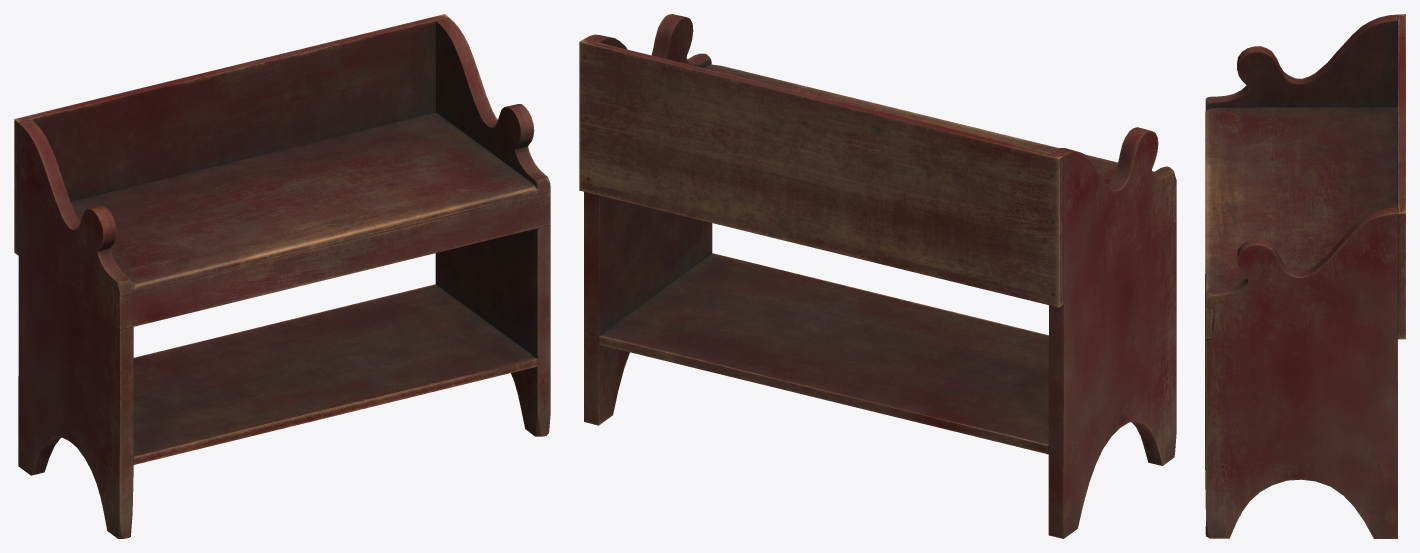
The model's file is painted_wooden_bench.glb.
3 renders of one model, left to right at view 1: azimuth 30°, elevation 25°; view 2: azimuth 150°, elevation 25°; view 3: azimuth 270°, elevation 25°, orthographic. The views are drawn at different scales.
Parts seen in each view (by area): view 1: painted_wooden_bench; view 2: painted_wooden_bench; view 3: painted_wooden_bench.
Part boxes in pixels (left/top/right/bottom): painted_wooden_bench: left=14, top=14, right=550, bottom=538; painted_wooden_bench: left=579, top=14, right=1176, bottom=538; painted_wooden_bench: left=1205, top=14, right=1405, bottom=538.
Size of the model in its own units: 1.16 by 0.8895 by 0.4968.
Materials: 1 (1 with a texture image).
